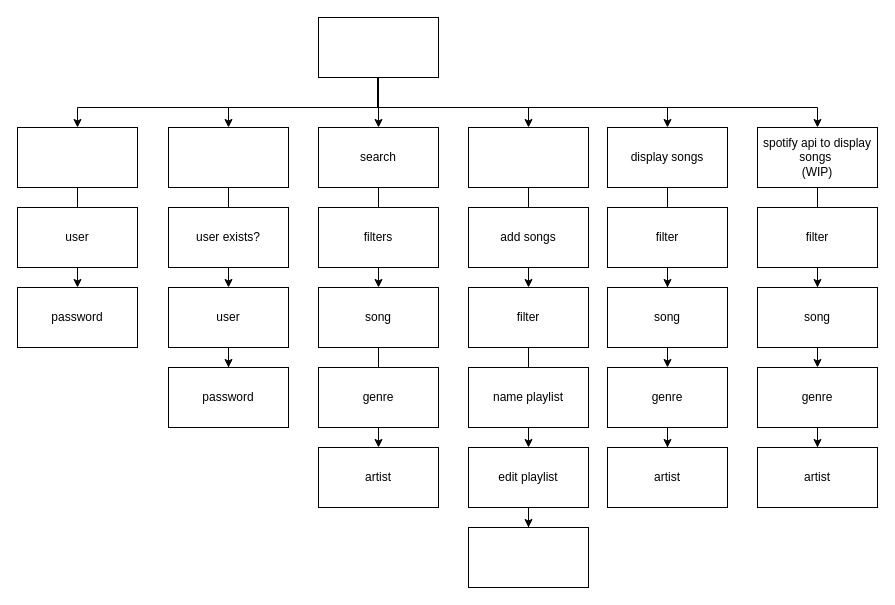
Image size: 895x605. Some labels were removed from this diagram. The centre of each missing label's shape, as x and y in pixels:
"login" goes at point 228,157.
"OCR Tunes" goes at point 378,47.
"playlist" goes at point 528,157.
"register" goes at point 77,157.
"save playlist" goes at point 528,557.
